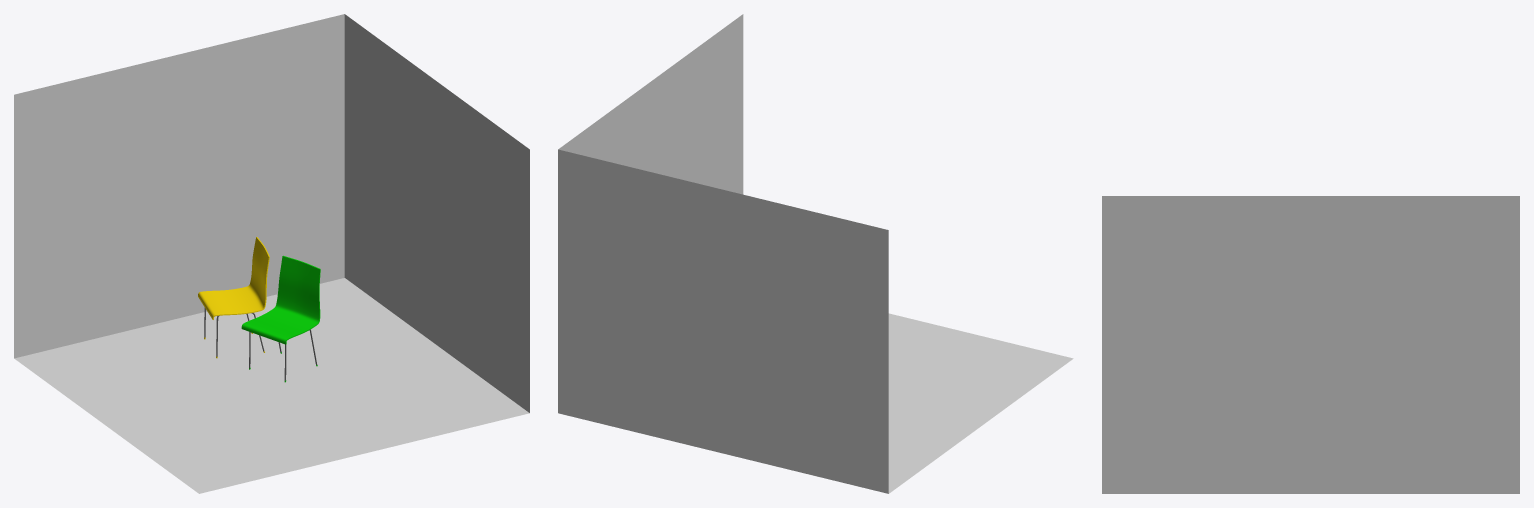
Rendered from MOB+-+CHAIR+-+RESTAURANT+CHAIR+FBX.FBX.
3 renders of one model, left to right at view 1: azimuth 30°, elevation 25°; view 2: azimuth 150°, elevation 25°; view 3: azimuth 270°, elevation 25°, orthographic. The views are drawn at different scales.
Parts seen in each view (by area): view 1: Box002, Box001, Box003; view 2: Box002; view 3: Box002.
Boxes of the visible parts, x1,y1,x2,y2 form: Box002: (14,14,529,493); Box001: (241,255,320,344); Box003: (198,237,269,319); Box002: (558,14,1073,493); Box002: (1102,196,1519,493).
Size of the model in its own units: 354 by 270 by 343.
